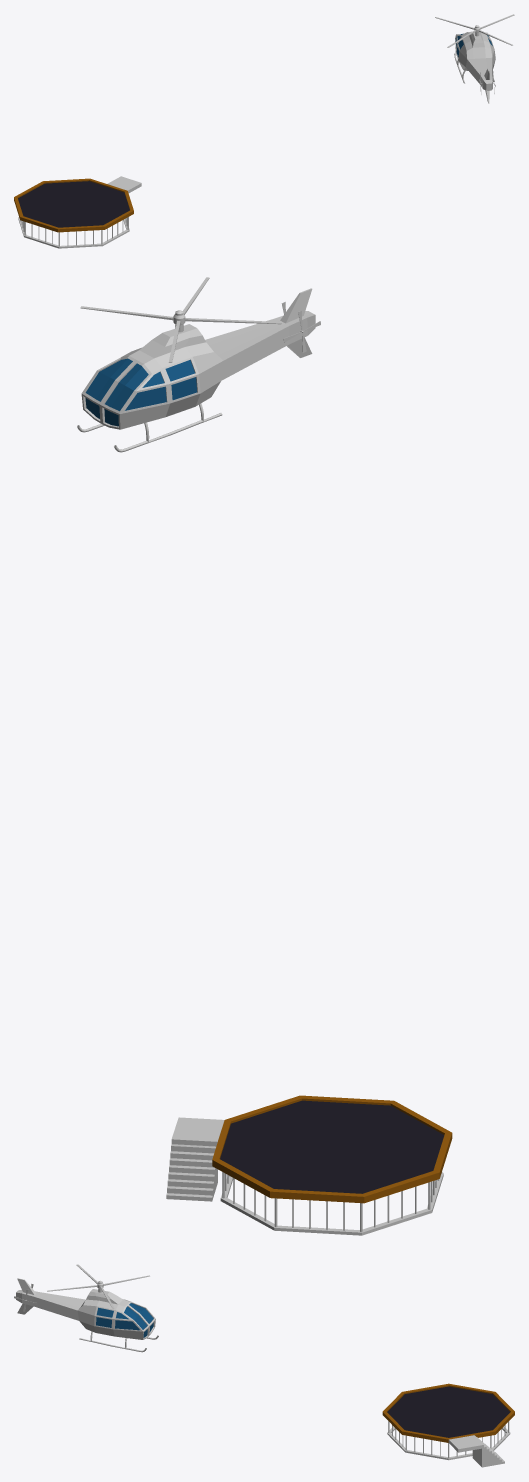
The model's file is copter_000107.obj.
3 renders of one model, top to bottom at view 1: azimuth 30°, elevation 25°; view 2: azimuth 150°, elevation 25°; view 3: azimuth 270°, elevation 25°, orthographic. The views are drawn at different scales.
Visible parts, largest first — view 1: Cylinder.001_Cylinder.012, Helicopter.007_Cylinder.008, Helicopter.001_Cylinder.001; view 2: Cylinder.001_Cylinder.012, Helicopter.007_Cylinder.008, Helicopter.001_Cylinder.001; view 3: Cylinder.001_Cylinder.012, Helicopter.007_Cylinder.008, Helicopter.001_Cylinder.001.
Part boxes in pixels (x1,y1,x2,y2): Cylinder.001_Cylinder.012: (14, 176, 141, 248); Helicopter.007_Cylinder.008: (454, 31, 495, 103); Helicopter.001_Cylinder.001: (435, 14, 514, 47); Cylinder.001_Cylinder.012: (166, 1095, 452, 1235); Helicopter.007_Cylinder.008: (77, 288, 315, 452); Helicopter.001_Cylinder.001: (80, 277, 281, 362); Cylinder.001_Cylinder.012: (382, 1383, 514, 1467); Helicopter.007_Cylinder.008: (16, 1278, 158, 1352); Helicopter.001_Cylinder.001: (47, 1264, 149, 1308).
Bounding box in the file's own units: 21.21 × 15.68 × 25.62.
